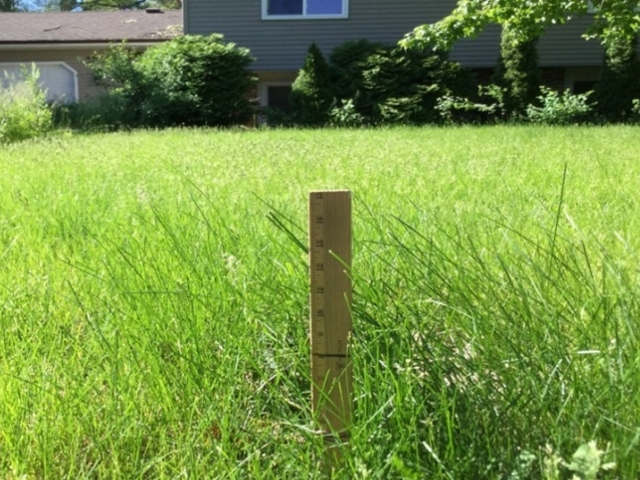grass: (4, 138, 640, 480)
